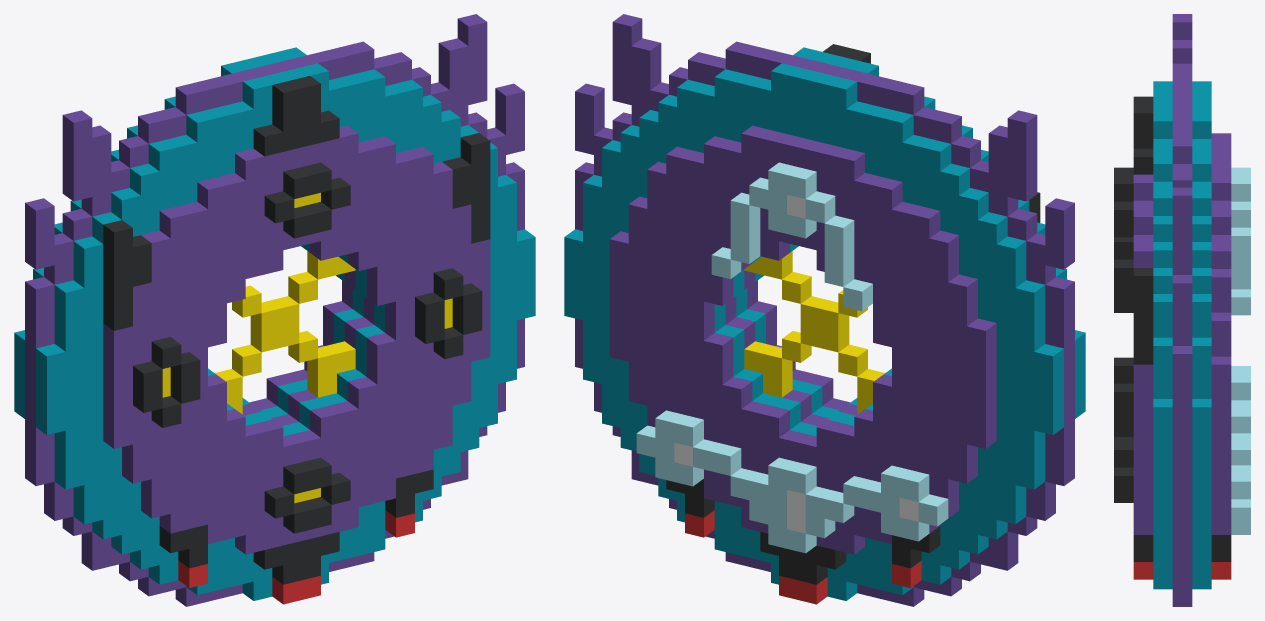
Rendered from EnemyShip2Voxel.FBX.
3 renders of one model, left to right at view 1: azimuth 30°, elevation 25°; view 2: azimuth 150°, elevation 25°; view 3: azimuth 270°, elevation 25°, orthographic. The views are drawn at different scales.
Parts seen in each view (by area): view 1: model_EnemyShip2Voxel_obj; view 2: model_EnemyShip2Voxel_obj; view 3: model_EnemyShip2Voxel_obj.
Boxes of the visible parts, x1,y1,x2,y2 form: model_EnemyShip2Voxel_obj: (14, 14, 535, 606); model_EnemyShip2Voxel_obj: (564, 14, 1085, 606); model_EnemyShip2Voxel_obj: (1114, 14, 1250, 606).
Size of the model in its own units: 26 by 26 by 7.
Materials: 1 (1 with a texture image).
